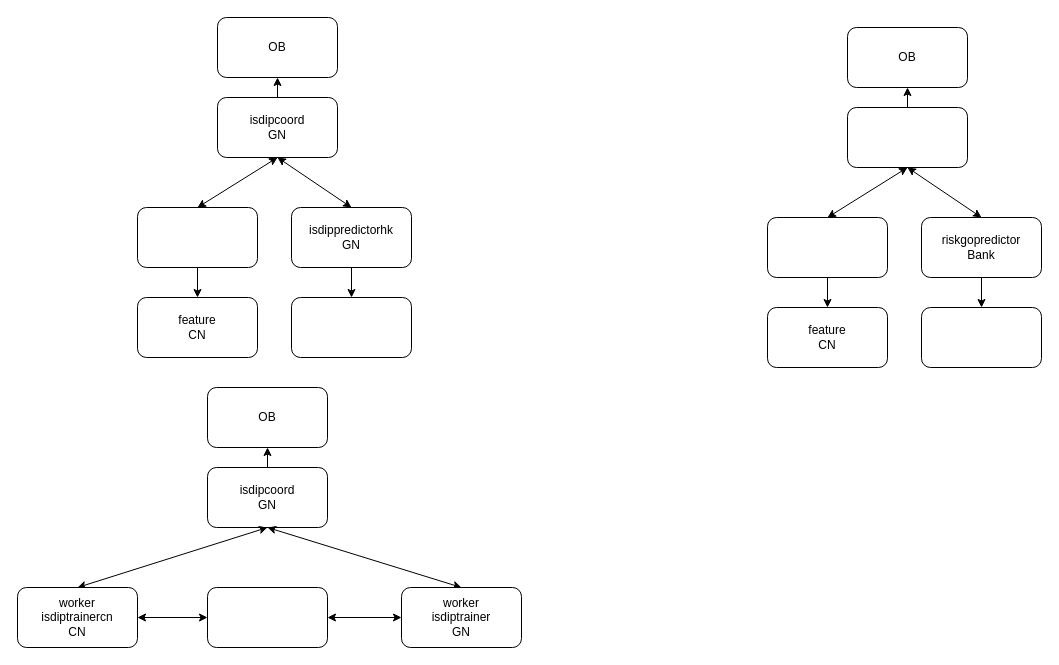
The diagram is 1059 pixels wide and 665 high, and some of its shapes have lost their labels. Each missing label, with the centre of its shape:
"feature Bank" goes at pixel 981 337.
"feature GN" goes at pixel 351 327.
"isdippredictorcn CN" goes at pixel 197 237.
"mpc-proxy isdiptrainer GN" goes at pixel 267 617.
"riskgocoordinator CN" goes at pixel 907 137.
"riskgopredictorzz CN" goes at pixel 827 247.
